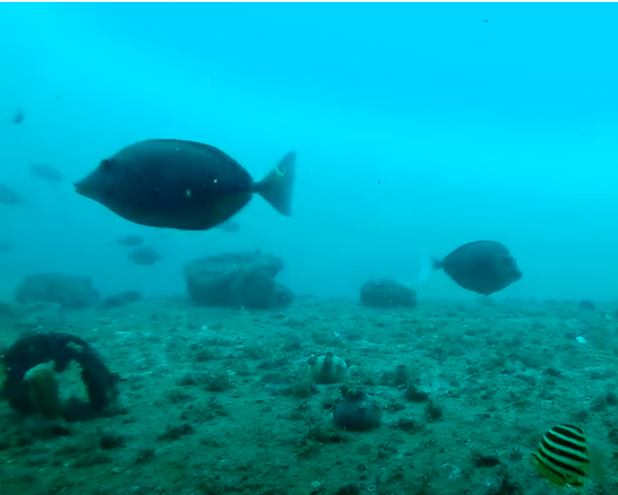smallfish: (68, 129, 302, 250), (412, 227, 529, 311)
